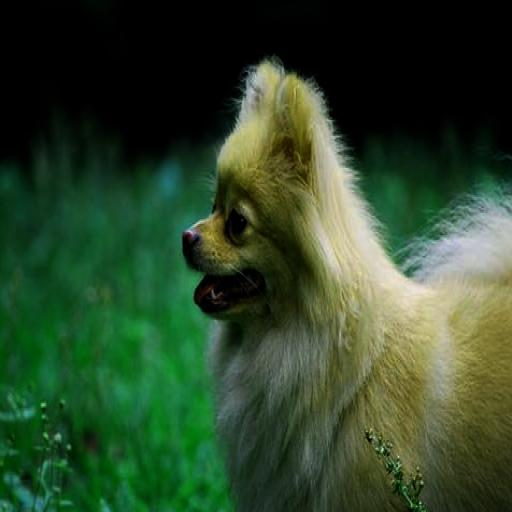dog_face: (171, 59, 318, 330)
